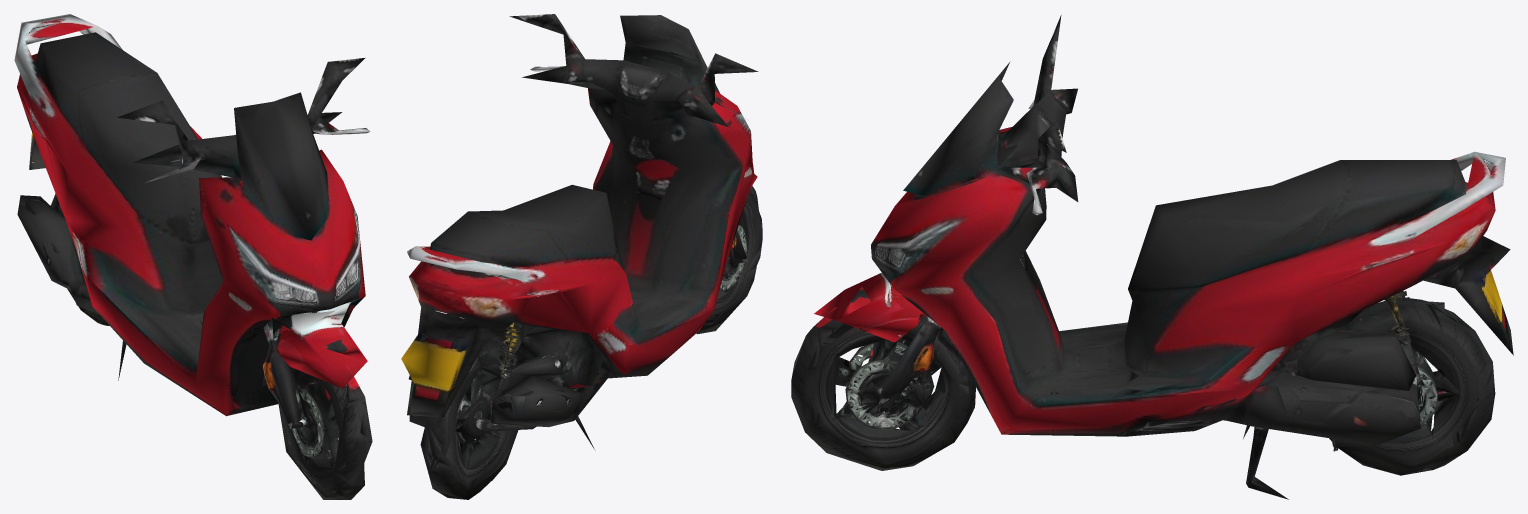
Rendered from v10-scooter-5k.glb.
3 renders of one model, left to right at view 1: azimuth 30°, elevation 25°; view 2: azimuth 150°, elevation 25°; view 3: azimuth 270°, elevation 25°, orthographic. The views are drawn at different scales.
Visible parts, largest first — view 1: tripo_node_20fc1d04-684c-4a04-aee0-0896c197b04a; view 2: tripo_node_20fc1d04-684c-4a04-aee0-0896c197b04a; view 3: tripo_node_20fc1d04-684c-4a04-aee0-0896c197b04a.
Boxes of the visible parts, x1,y1,x2,y2 form: tripo_node_20fc1d04-684c-4a04-aee0-0896c197b04a: (14, 14, 372, 499); tripo_node_20fc1d04-684c-4a04-aee0-0896c197b04a: (401, 14, 762, 499); tripo_node_20fc1d04-684c-4a04-aee0-0896c197b04a: (791, 15, 1513, 499).
Size of the model in its own units: 0.4285 by 0.5864 by 0.9658.
Materials: 1 (1 with a texture image).
